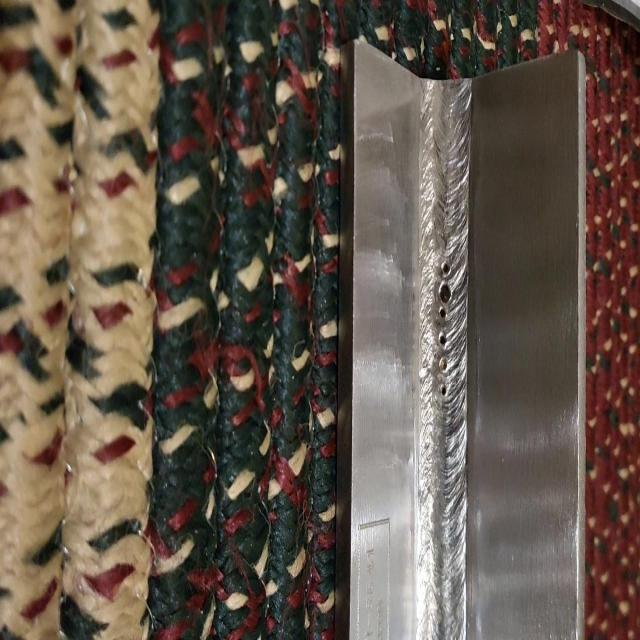Welding Line: (420, 83, 468, 640)
Workpiece: (342, 47, 581, 640)
porosity: (436, 260, 450, 398)
